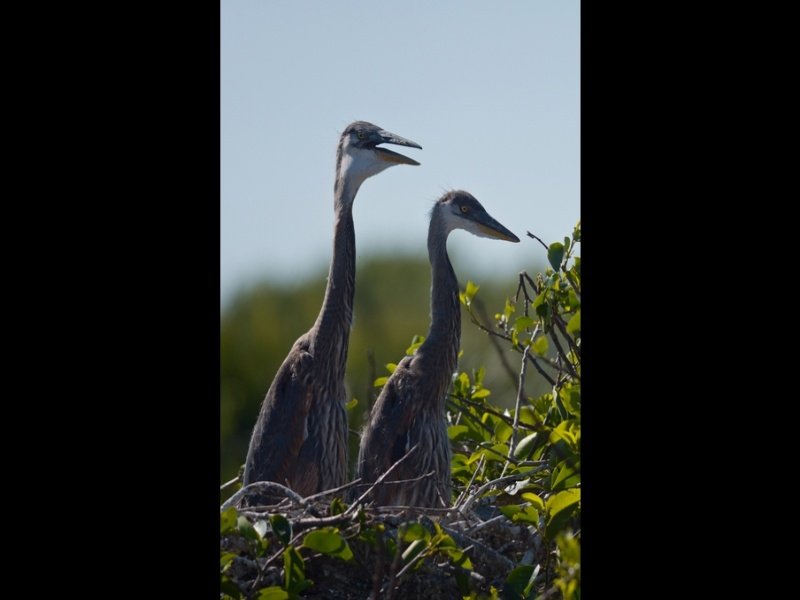heron: (237, 118, 426, 508), (356, 185, 526, 509)
